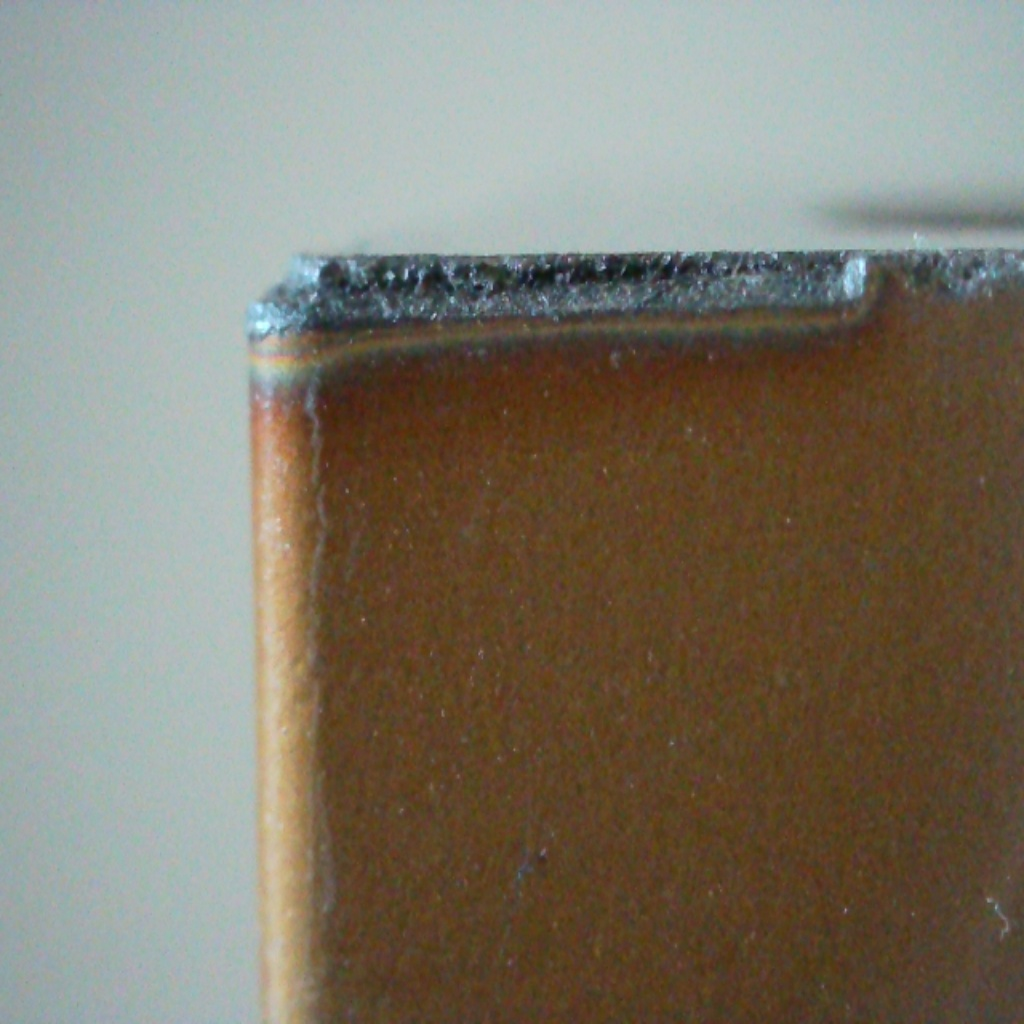flank_wear: (243, 247, 875, 368)
